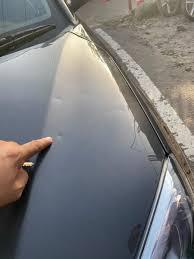bonnet-dent: (0, 11, 182, 224)
